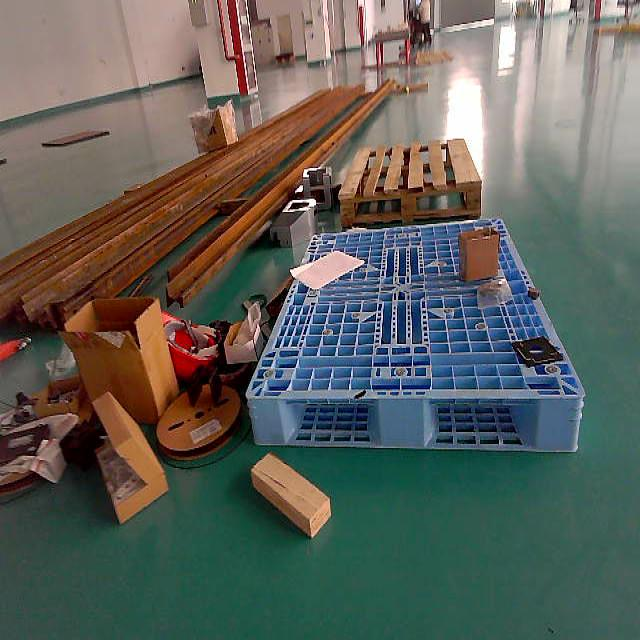euro: (336, 139, 481, 228)
